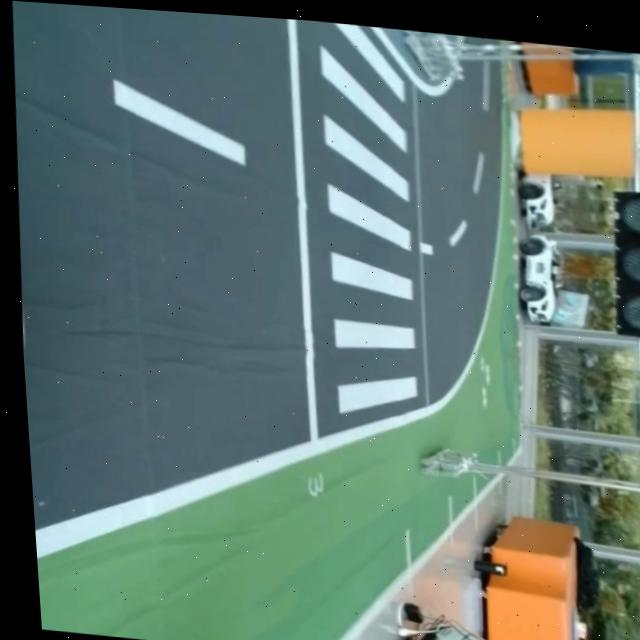traffic-light: (606, 185, 640, 343)
